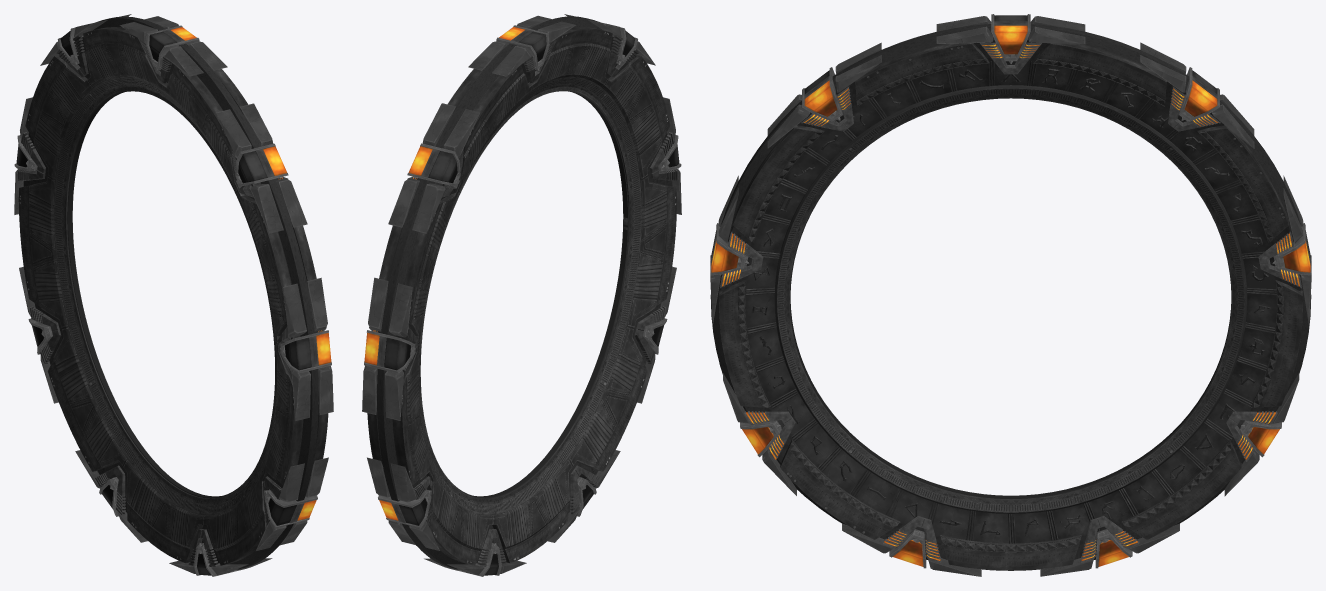
Rendered from stargate-transformed.glb.
The picture shows the model from 3 angles, left to right: view 1: azimuth 30°, elevation 25°; view 2: azimuth 150°, elevation 25°; view 3: azimuth 270°, elevation 25°; orthographic projection. The views are drawn at different scales.
Parts seen in each view (by area): view 1: gate_Gate_0, chevron_Chevron_0, chevron_back_Chevron_unlit_0; view 2: gate_Gate_0, chevron_Chevron_0, chevron_back_Chevron_unlit_0; view 3: gate_Gate_0, gate_ring_Ring_0, chevron_Chevron_0.
Part boxes in pixels (bbox=[...]): gate_Gate_0: bbox=[18, 16, 328, 569]; chevron_Chevron_0: bbox=[14, 14, 333, 576]; chevron_back_Chevron_unlit_0: bbox=[16, 31, 311, 575]; gate_Gate_0: bbox=[367, 16, 676, 569]; chevron_Chevron_0: bbox=[362, 14, 681, 576]; chevron_back_Chevron_unlit_0: bbox=[384, 30, 679, 575]; gate_Gate_0: bbox=[710, 24, 1311, 570]; gate_ring_Ring_0: bbox=[744, 60, 1277, 543]; chevron_Chevron_0: bbox=[710, 14, 1311, 576].
Size of the model in its own units: 0.4281 by 5.23 by 5.22.
Materials: 4 (4 with a texture image).
